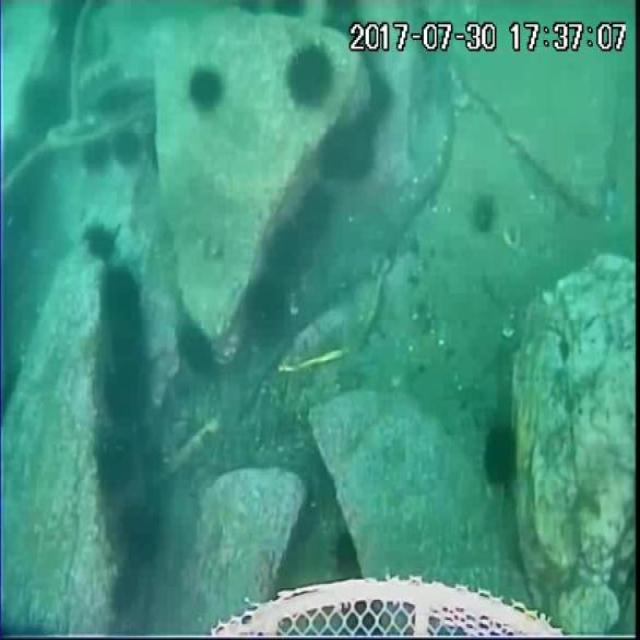echinus: (316, 121, 376, 188), (95, 429, 141, 502), (284, 46, 335, 110), (114, 500, 164, 564), (97, 267, 144, 333), (101, 364, 148, 429), (478, 421, 521, 488), (21, 78, 68, 134), (244, 277, 290, 332), (177, 322, 218, 378), (300, 184, 336, 240), (266, 224, 300, 281), (188, 65, 227, 114), (110, 125, 144, 171), (81, 222, 119, 262), (365, 73, 395, 120), (333, 527, 359, 577), (80, 135, 114, 173), (468, 190, 497, 234), (268, 0, 309, 21), (326, 0, 360, 19), (236, 0, 264, 17)
